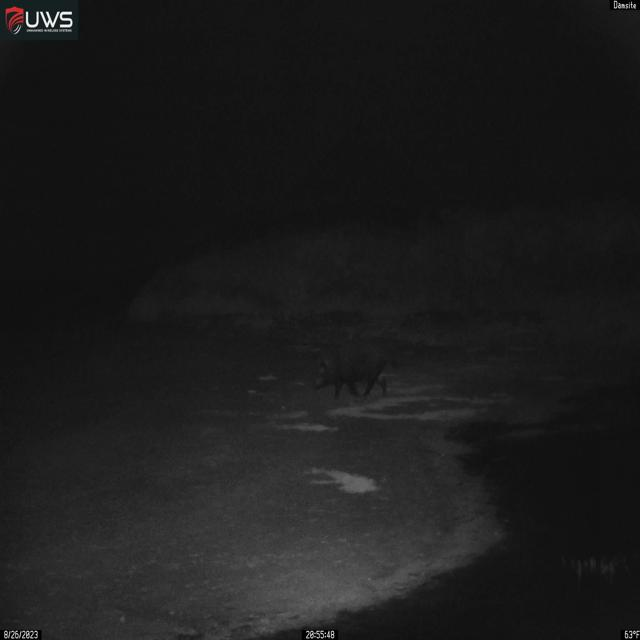pig: (310, 340, 398, 402)
